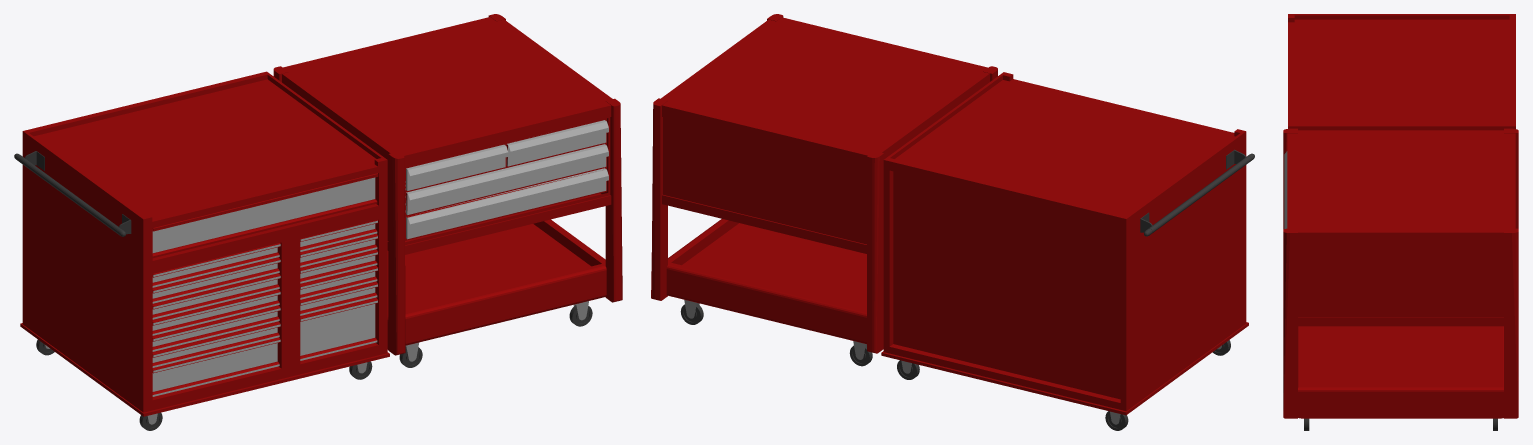
File: tool_chest_03.fbx
3 views of the same model, side by side, from view 1: azimuth 30°, elevation 25°; view 2: azimuth 150°, elevation 25°; view 3: azimuth 270°, elevation 25° (orthographic). The views are drawn at different scales.
Parts seen in each view (by area): view 1: Tools_chest, tool chest.010; view 2: Tools_chest, tool chest.010; view 3: tool chest.010, Tools_chest.
Part boxes in pixels (box(x1,y1,x2,y2)): Tools_chest: box(14, 71, 389, 430); tool chest.010: box(273, 14, 622, 367); Tools_chest: box(881, 72, 1254, 430); tool chest.010: box(651, 14, 997, 366); tool chest.010: box(1283, 128, 1518, 430); Tools_chest: box(1288, 14, 1515, 130).
Bounding box in the file's own units: 207 × 89.3 × 90.59.
Materials: 1 (1 with a texture image).
